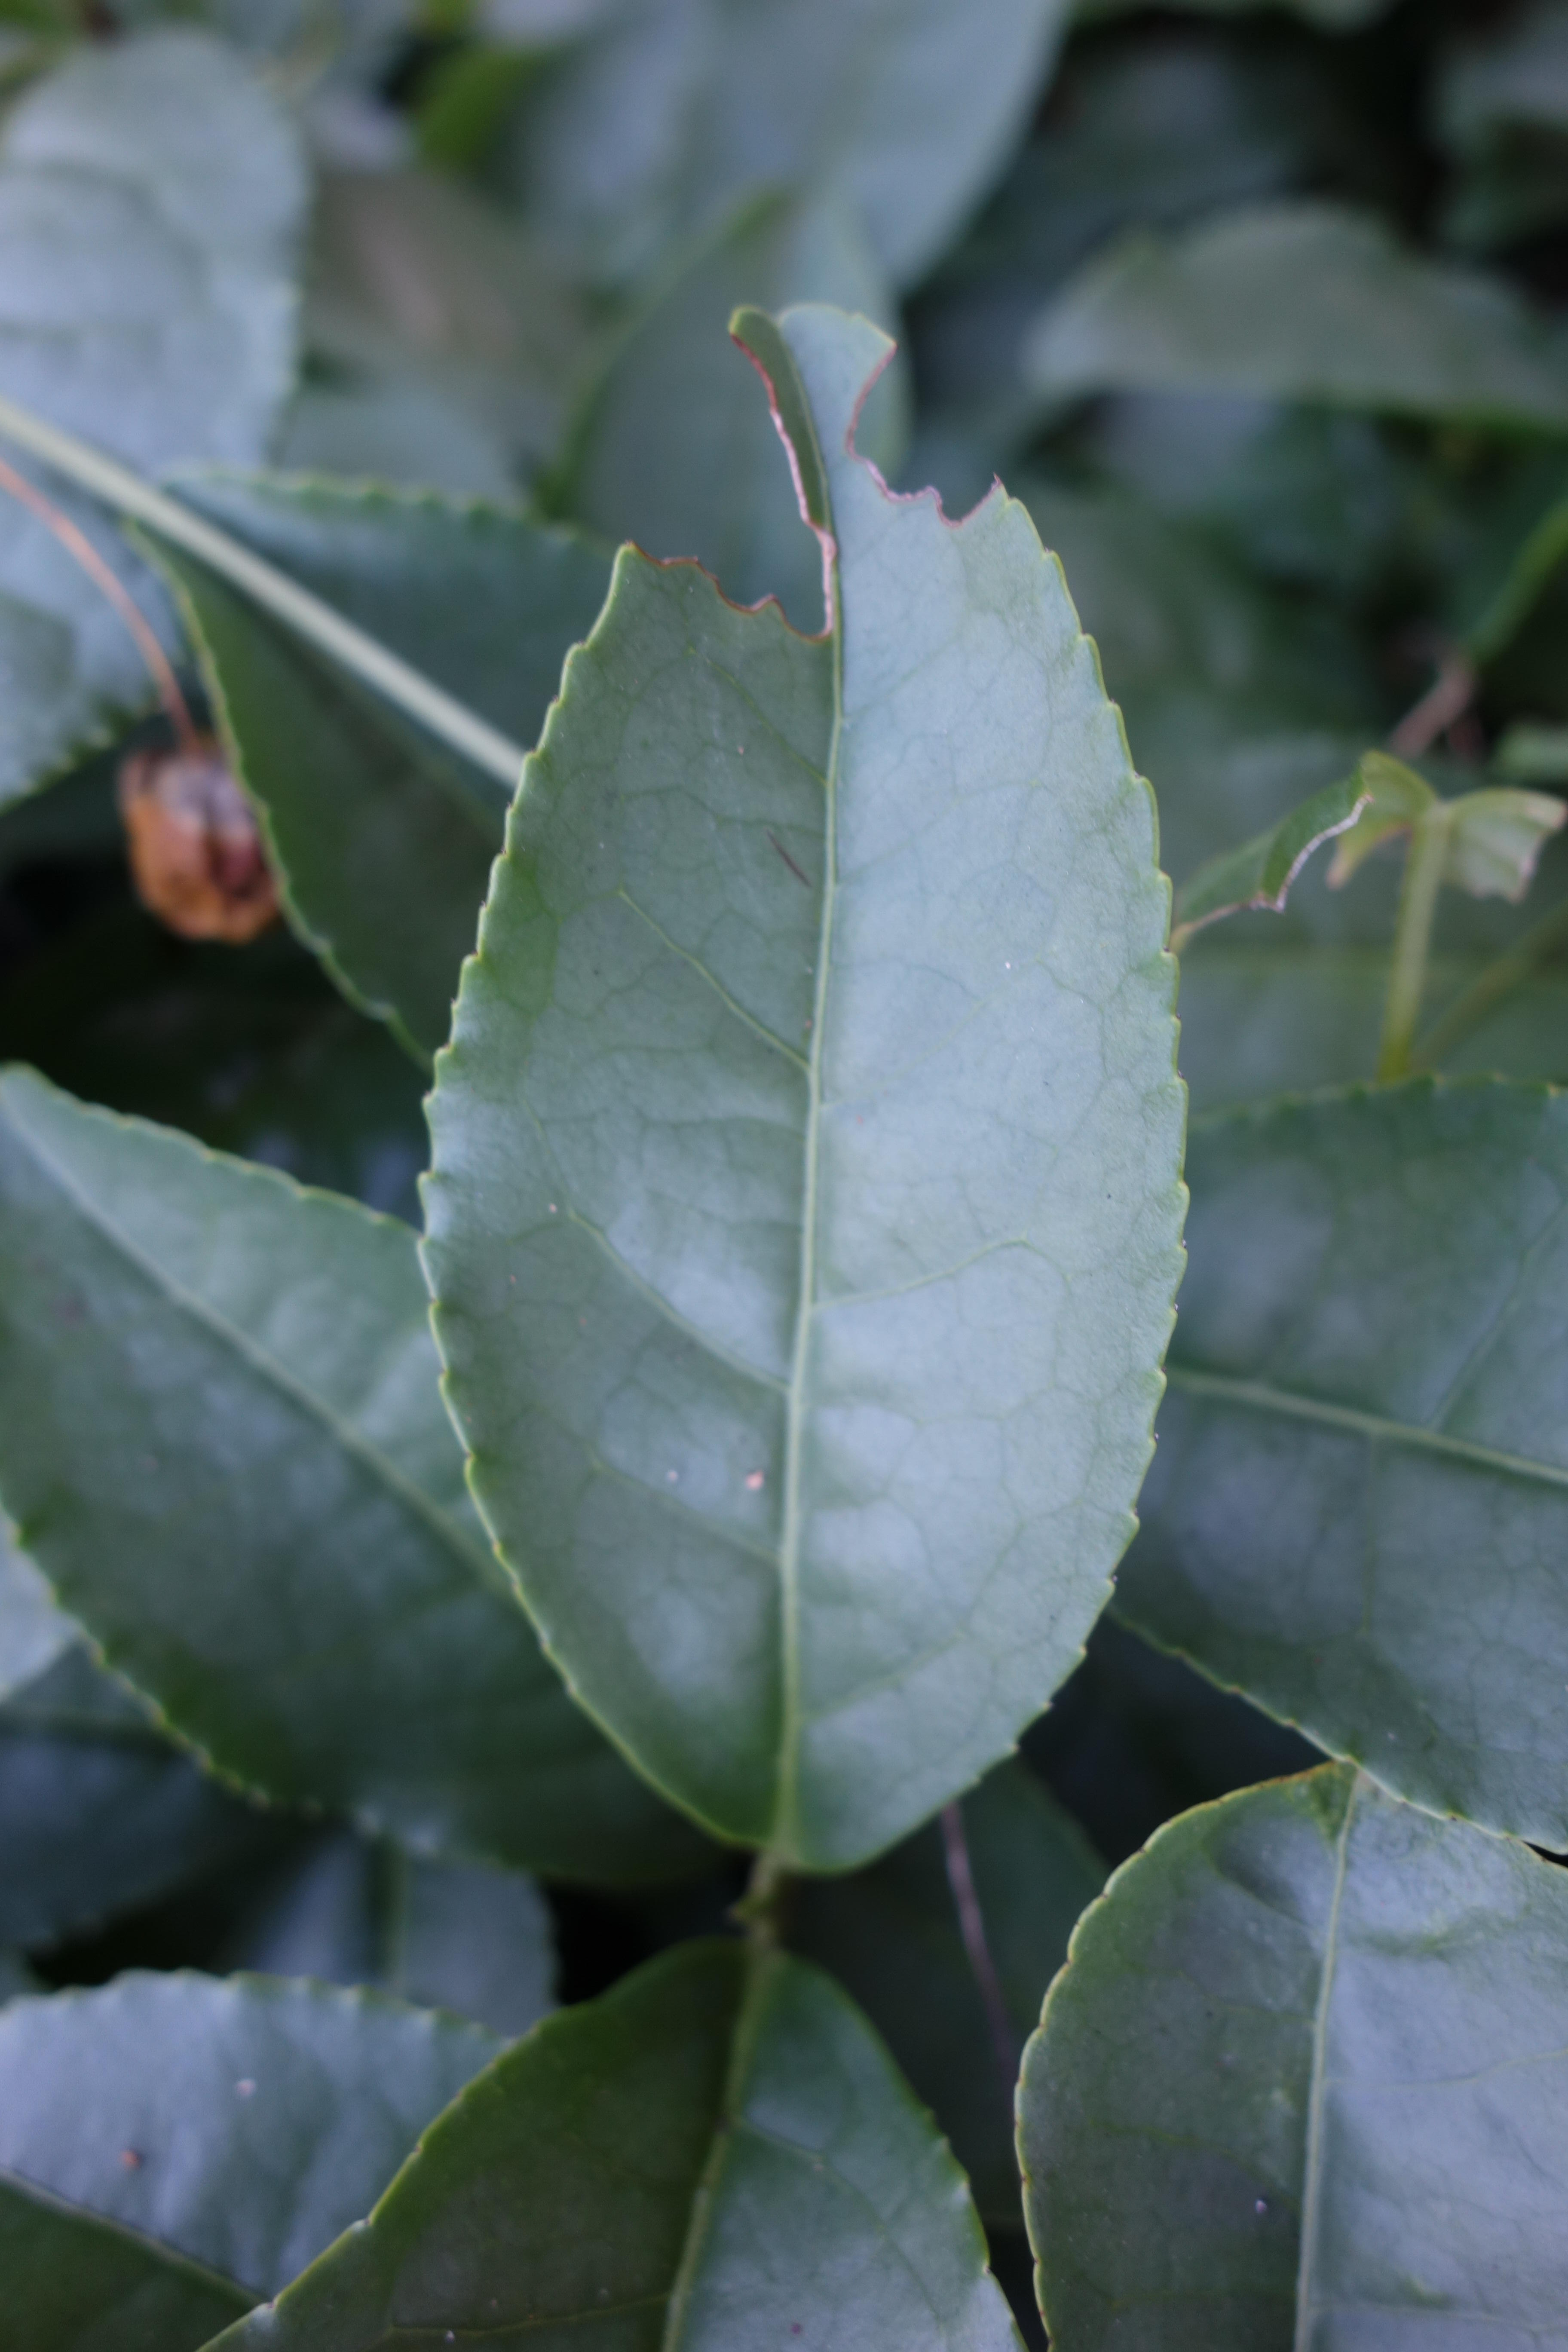chihuo_high: (415, 290, 1199, 1897)
